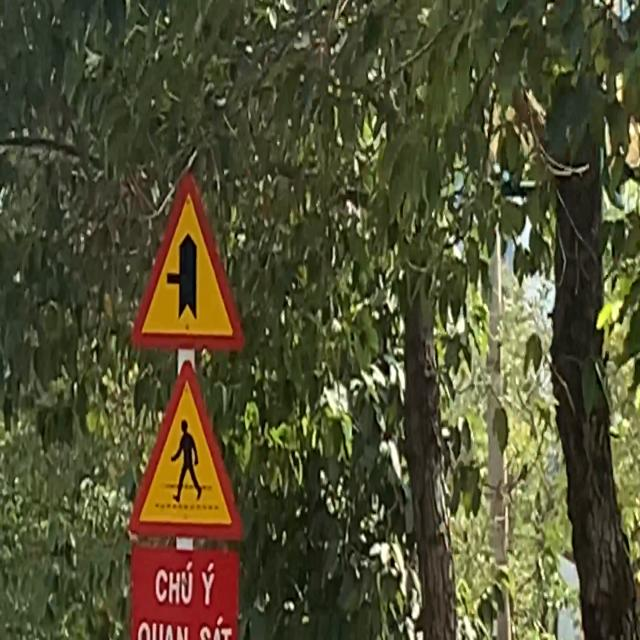Giao voi duong khong uu tien: (125, 160, 248, 363)
Nguoi di bo cat ngang: (128, 356, 248, 548)
